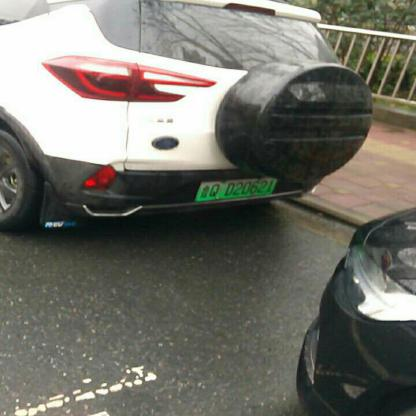lp: (194, 178, 279, 201)
